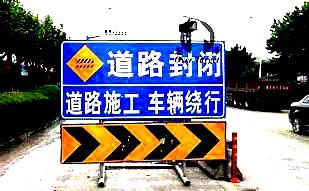sign: (61, 41, 226, 161)
